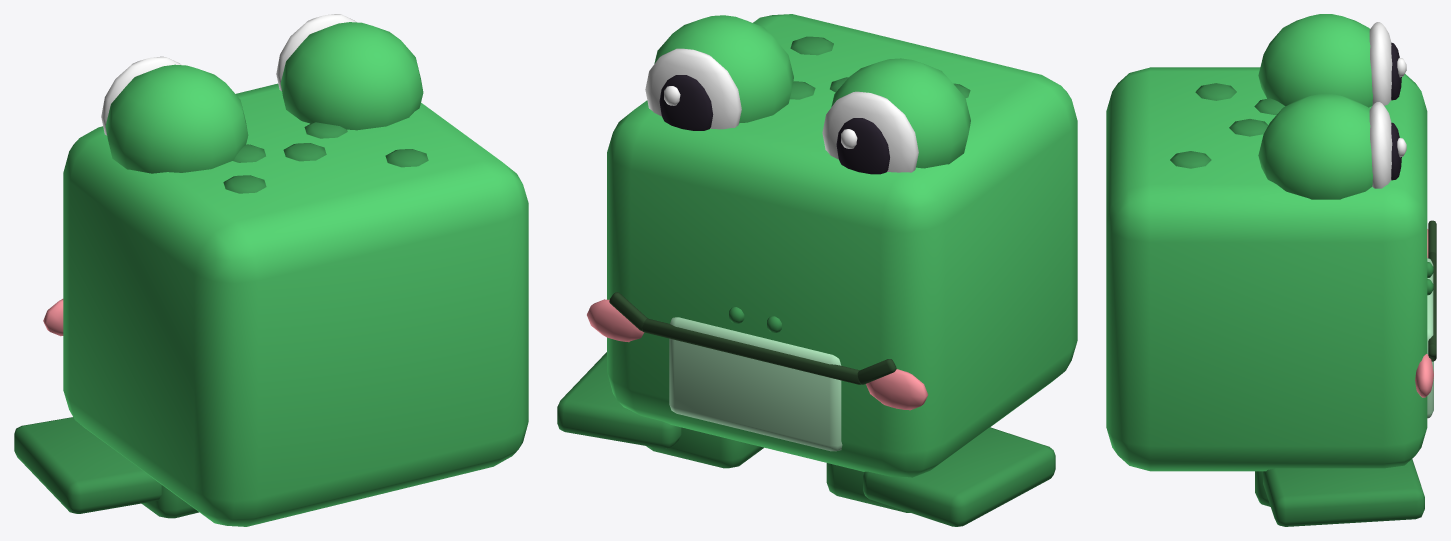
Rendered from pet_frog.fbx.
3 views of the same model, side by side, from view 1: azimuth 30°, elevation 25°; view 2: azimuth 150°, elevation 25°; view 3: azimuth 270°, elevation 25° (orthographic). The views are drawn at different scales.
Parts seen in each view (by area): view 1: pet_frog; view 2: pet_frog; view 3: pet_frog.
Boxes of the visible parts, <box> form: pet_frog: <box>14,14,528,526</box>; pet_frog: <box>557,14,1077,526</box>; pet_frog: <box>1106,14,1436,526</box>.
Bounding box in the file's own units: 2.8 × 2.54 × 1.96.
Materials: 1 (1 with a texture image).
